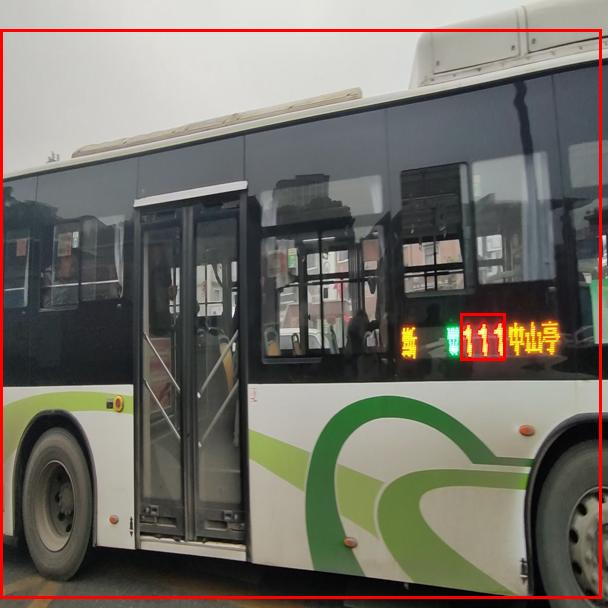bus: (0, 29, 601, 598)
screen: (460, 313, 505, 360)
